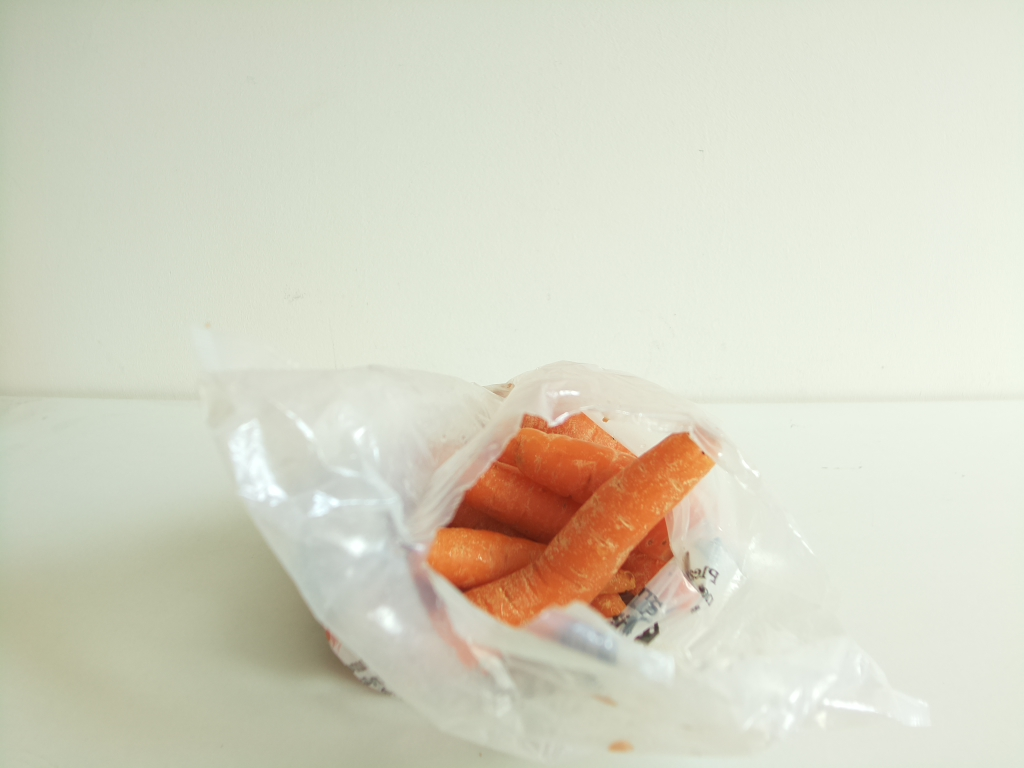carrot: (324, 389, 736, 698)
